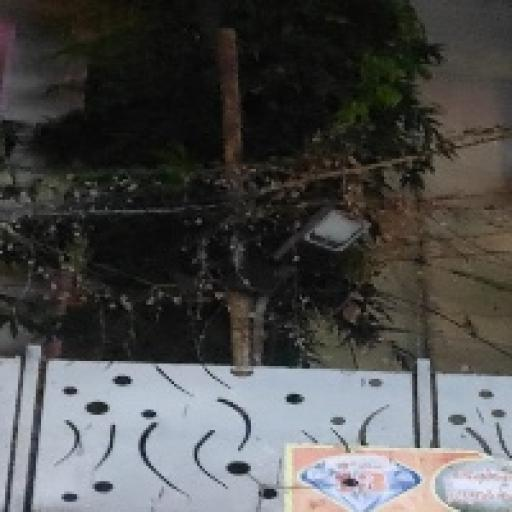Not Working: (286, 199, 380, 269)
